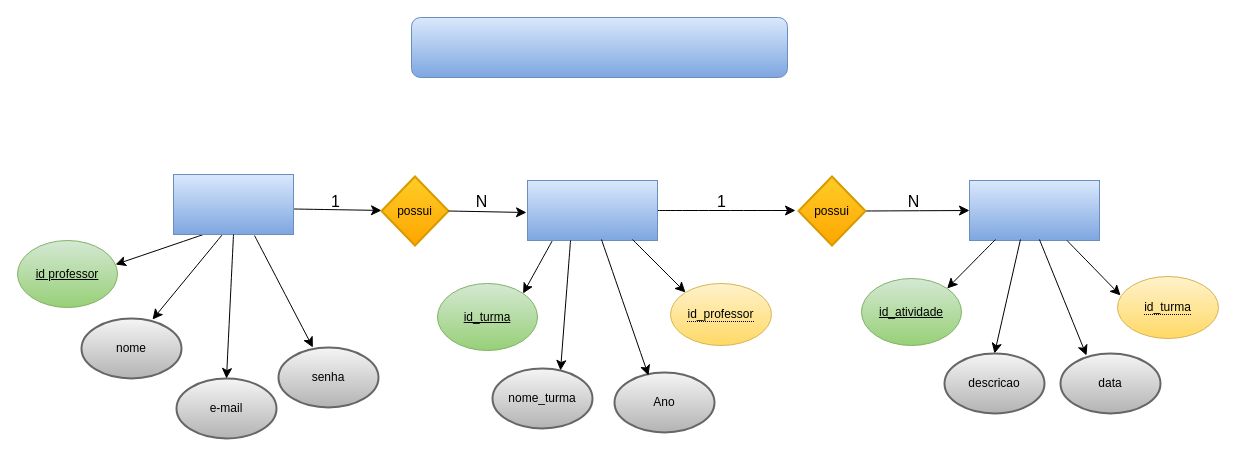
The diagram is 1236 pixels wide and 457 high, and some of its shapes have lost their labels. The centre of each missing label's shape, as x and y in pixels:
"Atividades" belongs at (1034,210).
"Entidade Relacionamento (DER)" belongs at (599,47).
"Professor" belongs at (233,204).
"Turma" belongs at (592,210).
